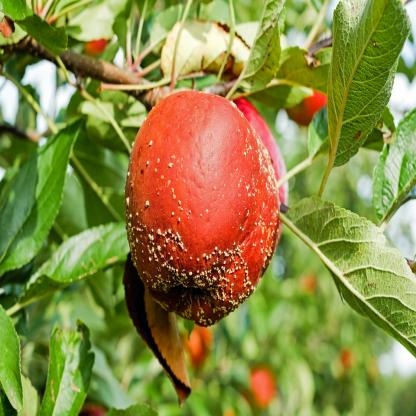apple: (122, 94, 278, 332)
